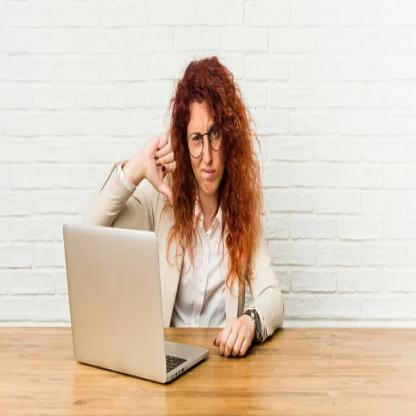thumb_down: (142, 129, 178, 209)
